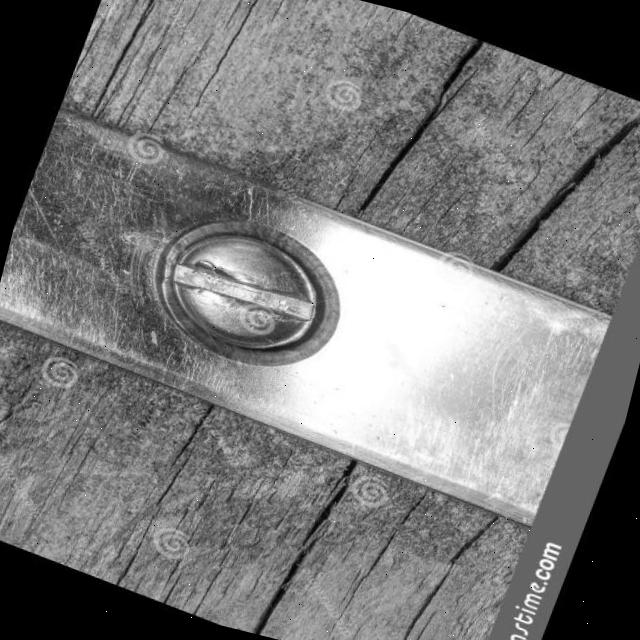Slotted: (126, 196, 379, 396)
